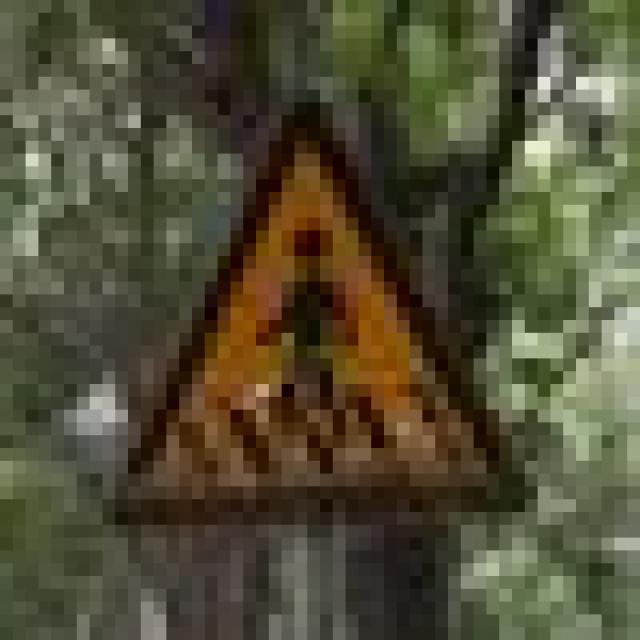pass_either_side: (90, 77, 538, 512)
